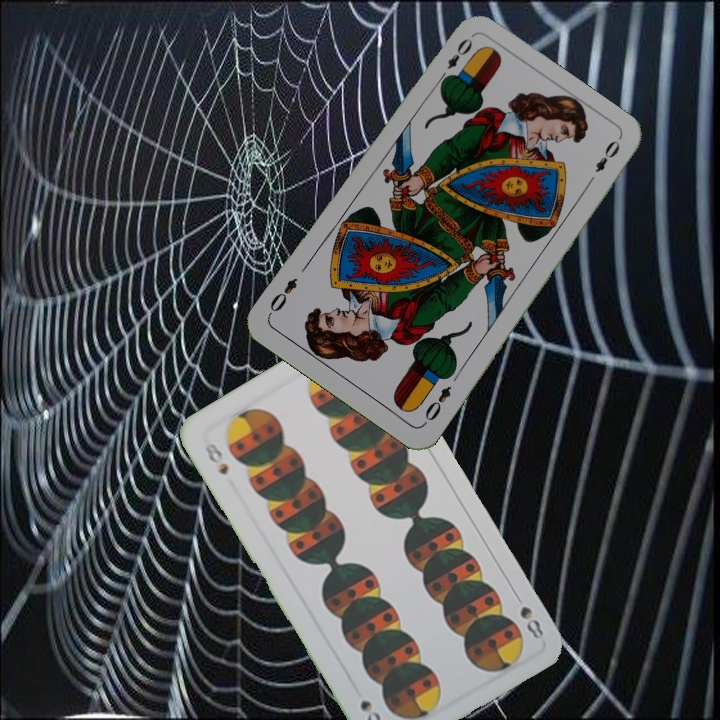EO: (434, 34, 475, 85), (419, 381, 454, 428)
S8: (509, 587, 547, 642), (200, 439, 231, 478)
